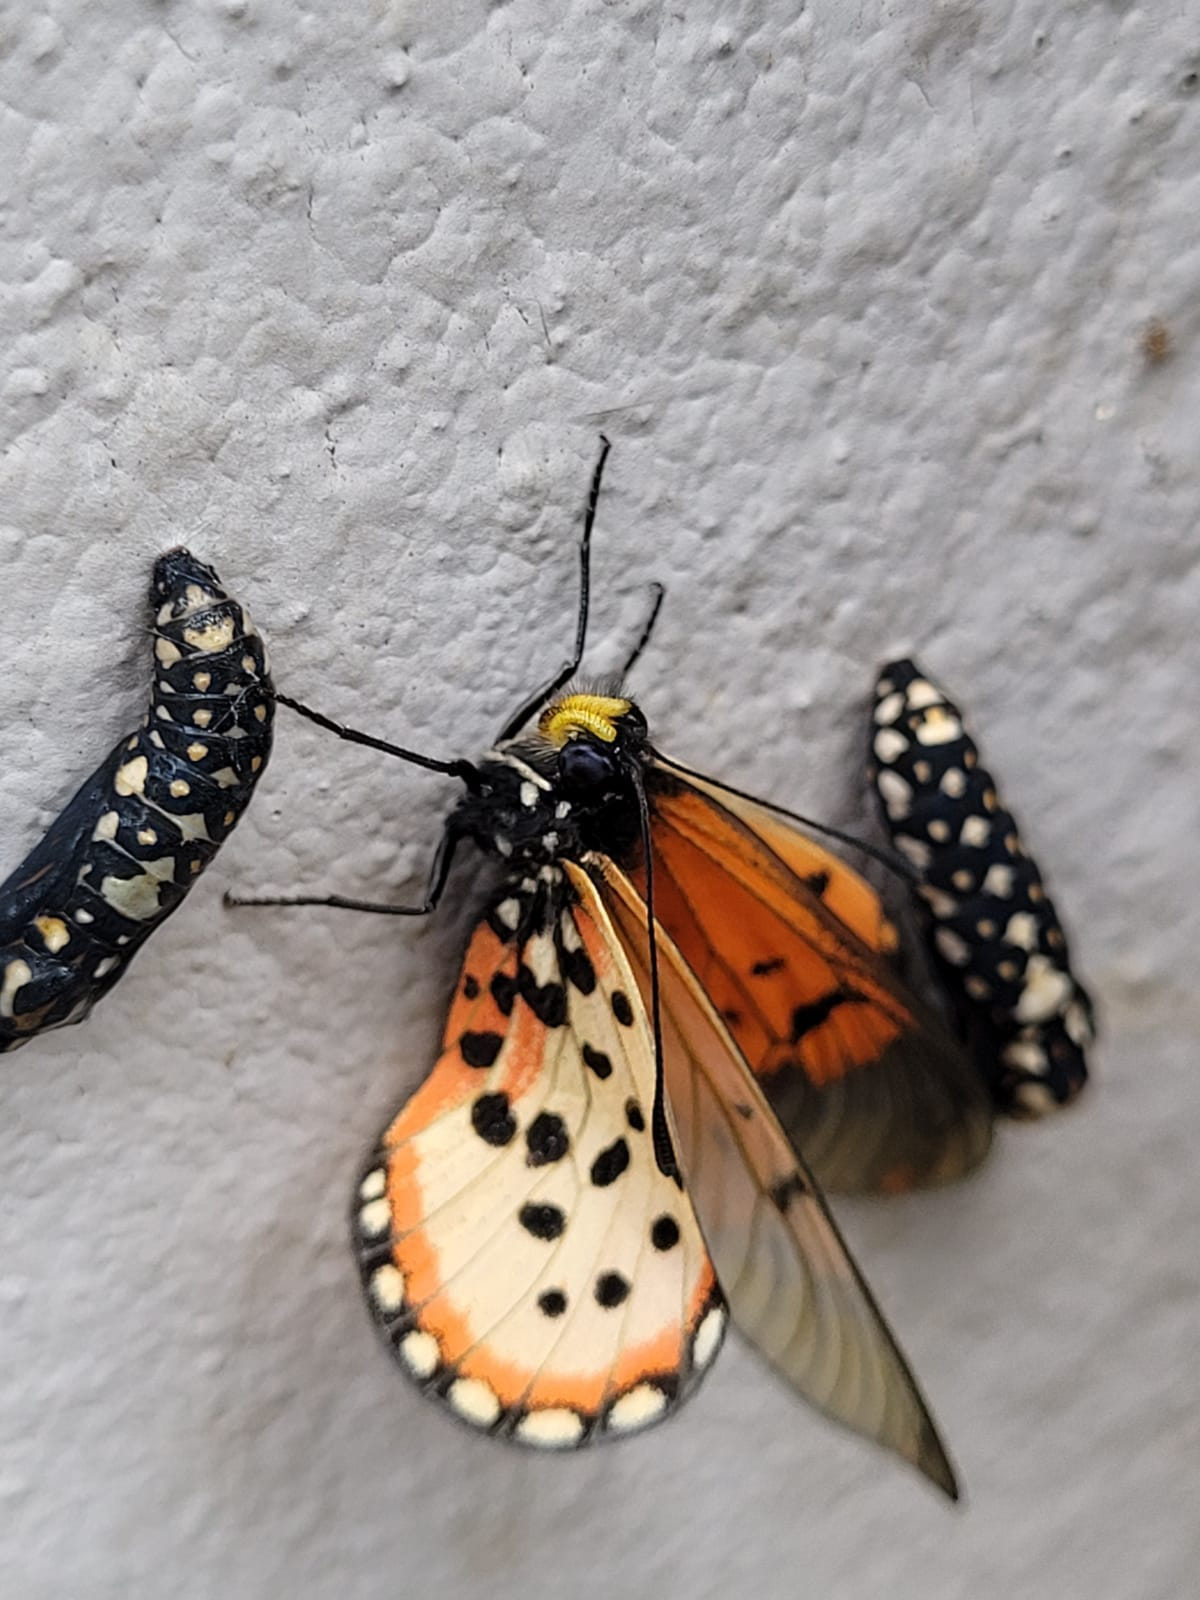Butterfly: (277, 427, 1000, 1524)
Caterpillar: (1, 538, 284, 1072), (865, 645, 1105, 1135)
